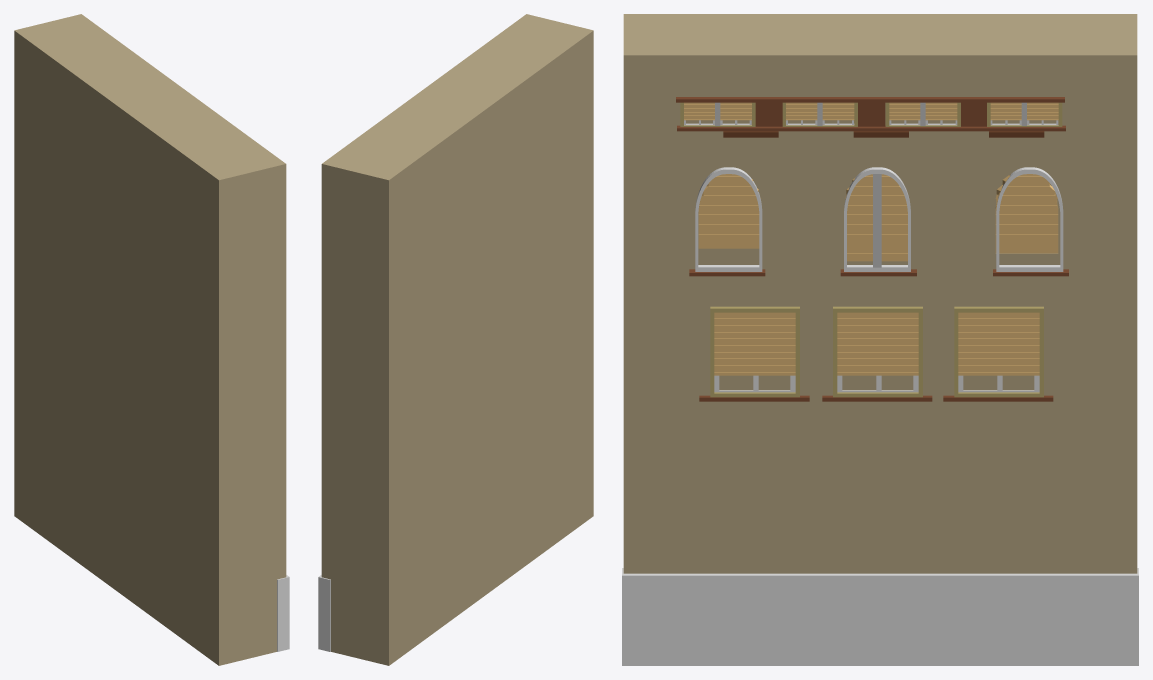
File: puerta_antigua_lateral.fbx
3 views of the same model, side by side, from view 1: azimuth 30°, elevation 25°; view 2: azimuth 150°, elevation 25°; view 3: azimuth 270°, elevation 25° (orthographic). The views are drawn at different scales.
Visible parts, largest first — view 1: Cubo.069, Cube; view 2: Cubo.069, Cube; view 3: Cubo.069, Cube, Cube.010, Cube.001, Cube.027, Cube.074, Cube.077, Cube.069, Cube.200, Cube.199, Cube.003, Cube.017 (+5 smaller).
Part boxes in pixels (x1,y1,x2,y2): Cubo.069: (14, 14, 286, 665); Cube: (277, 575, 289, 651); Cubo.069: (321, 14, 593, 665); Cube: (318, 575, 330, 651); Cubo.069: (623, 14, 1137, 573); Cube: (622, 568, 1138, 665); Cube.010: (714, 312, 795, 375); Cube.001: (837, 312, 918, 375); Cube.027: (958, 312, 1039, 375); Cube.074: (995, 174, 1058, 253); Cube.077: (845, 174, 907, 261); Cube.069: (698, 174, 760, 248); Cube.200: (676, 97, 1064, 102); Cube.199: (677, 125, 1065, 131); Cube.003: (710, 306, 799, 397); Cube.017: (833, 306, 922, 397).
Bounding box in the file's own units: 991 × 6271 × 4821.
